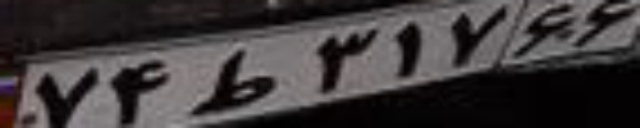1: (394, 21, 418, 77)
3: (320, 29, 377, 91)
4: (106, 61, 170, 125)
6: (516, 4, 572, 55), (577, 0, 633, 46)
7: (34, 66, 100, 127), (450, 5, 506, 67)
taa: (188, 46, 277, 115)
